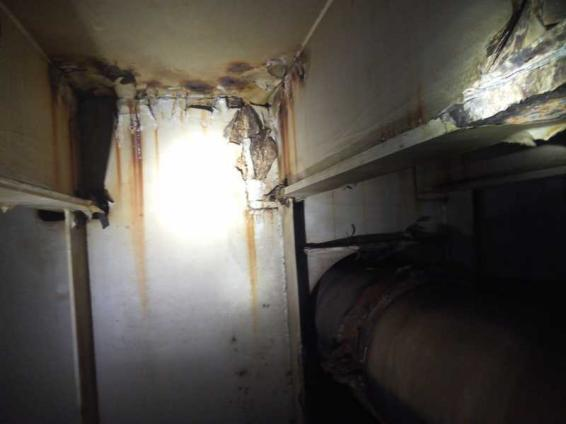corrosion: (105, 102, 152, 310), (231, 204, 266, 363), (219, 104, 284, 186), (53, 53, 141, 90), (157, 68, 223, 98), (263, 55, 313, 94), (214, 43, 244, 86)
